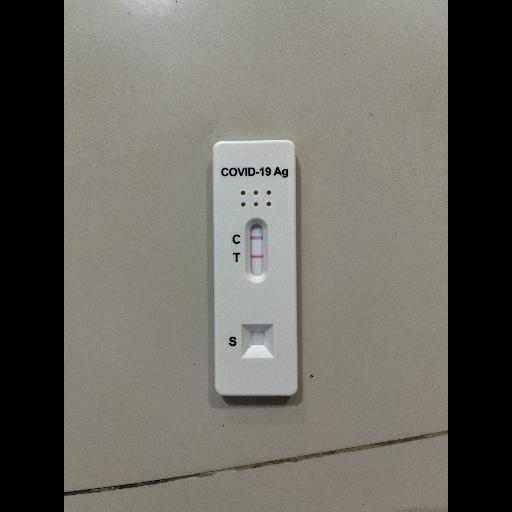Pos: (213, 141, 297, 395)
